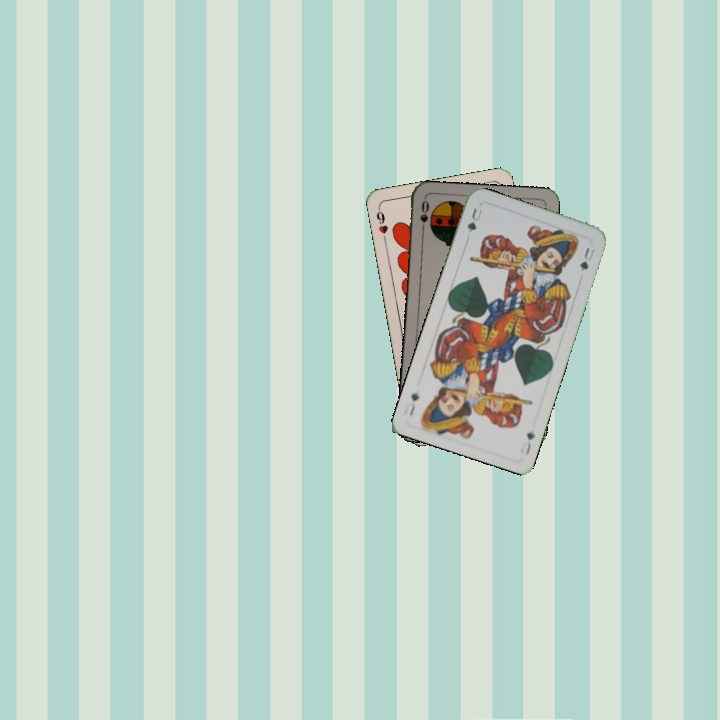GU: (463, 204, 485, 235), (520, 428, 537, 457)
H9: (372, 204, 391, 244)
SO: (416, 196, 431, 237)
